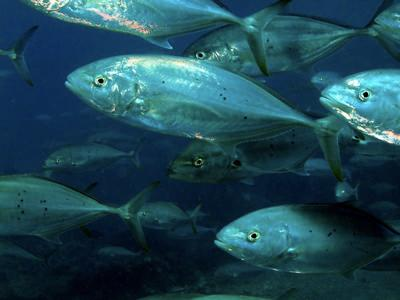Carangidae -Jacks-: (65, 39, 352, 190), (206, 201, 399, 283)
